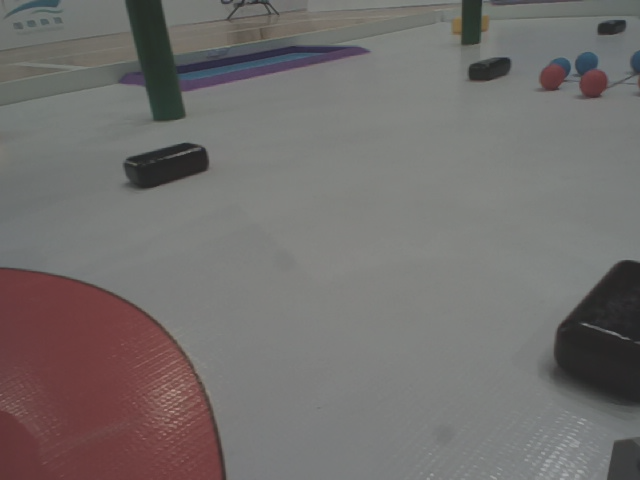black: (555, 256, 640, 400), (115, 141, 217, 187), (467, 57, 511, 83), (599, 19, 629, 32)
blue: (577, 48, 599, 70), (553, 59, 571, 77), (630, 49, 640, 75)
kuang: (111, 45, 369, 96)
red: (581, 70, 604, 94), (541, 66, 563, 86)
zhuzi: (126, 1, 185, 119)
